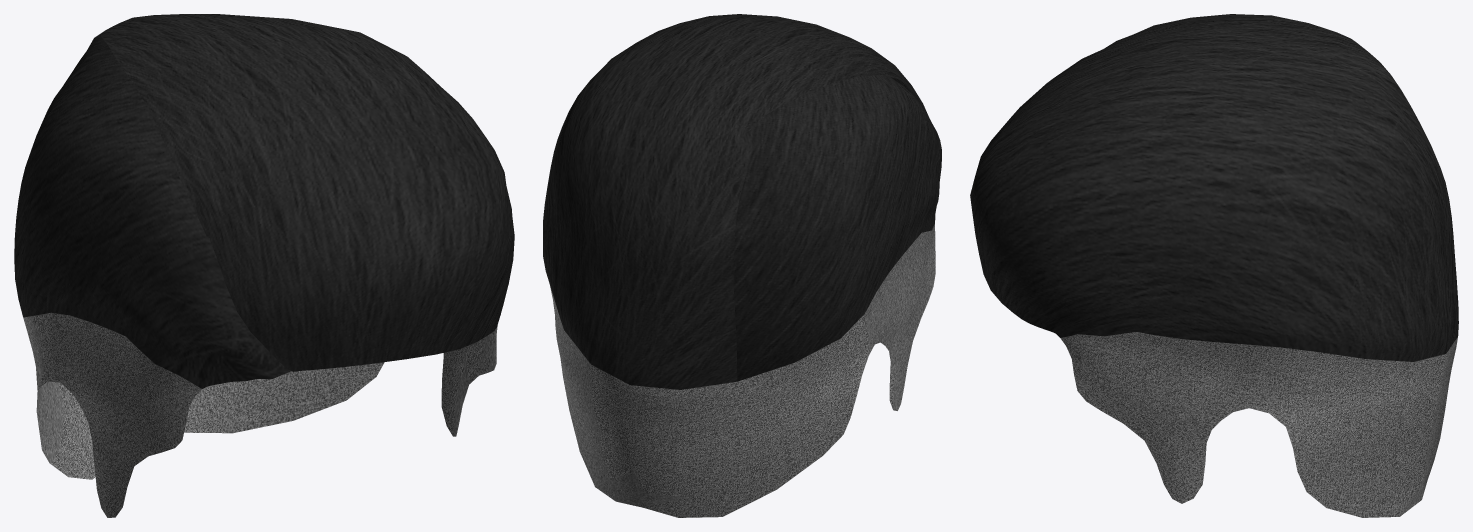
The model's file is Kami04.fbx.
3 renders of one model, left to right at view 1: azimuth 30°, elevation 25°; view 2: azimuth 150°, elevation 25°; view 3: azimuth 270°, elevation 25°, orthographic. The views are drawn at different scales.
Parts seen in each view (by area): view 1: Kami04; view 2: Kami04; view 3: Kami04.
Part boxes in pixels (<box>): Kami04: <box>14,14,514,517</box>; Kami04: <box>543,14,941,517</box>; Kami04: <box>970,14,1458,517</box>.
Bounding box in the file's own units: 15.83 × 18.95 × 19.27.
